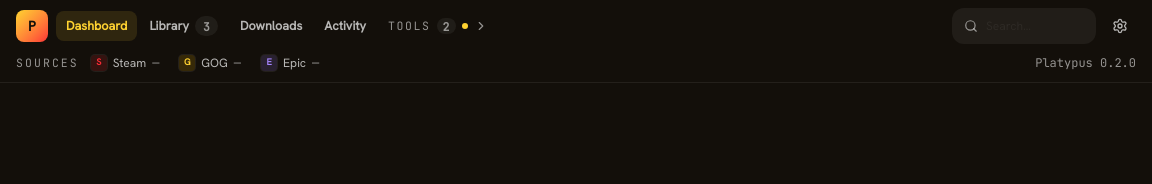
Scenario: shell navigation variants › shows the plugin attention dot on the Tools menu in topbar mode
Click the button "Tools 2": point(438, 26) x1=378 y1=11 x2=498 y2=41
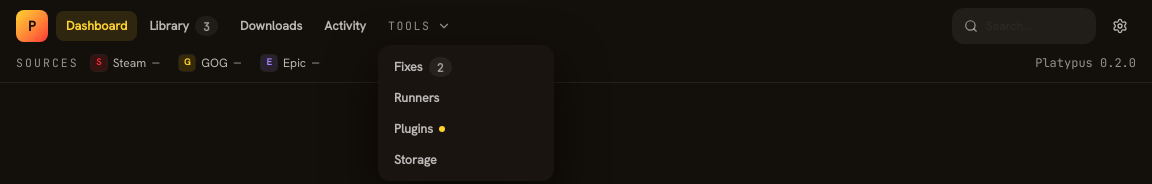
Check: the menu item "Plugins" is shown, box x1=384 y1=114 x2=548 y2=145
